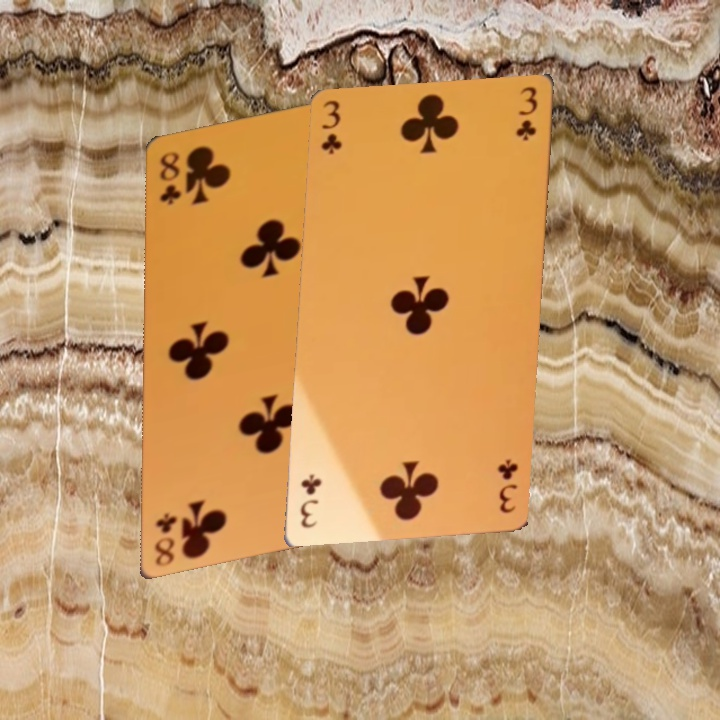3c: (492, 456, 521, 523), (318, 98, 347, 164), (515, 85, 544, 151), (295, 470, 324, 536)
8c: (157, 141, 184, 209), (152, 500, 179, 567)
